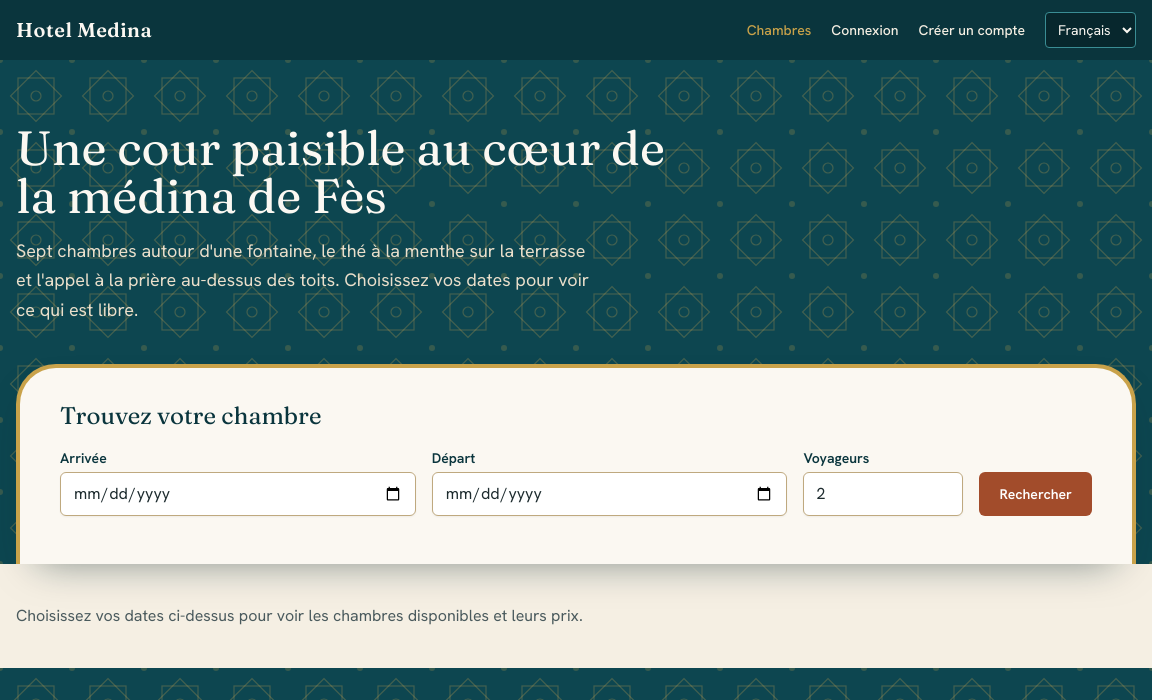
Scenario: language switching › switches between French and English and persists the choice
expect the heading "Trouvez votre chambre" is shown: met, box 60,401 -> 321,430
Select "English" in the dropdown named "Langue" at (1090, 30), box 1045,12 -> 1136,48
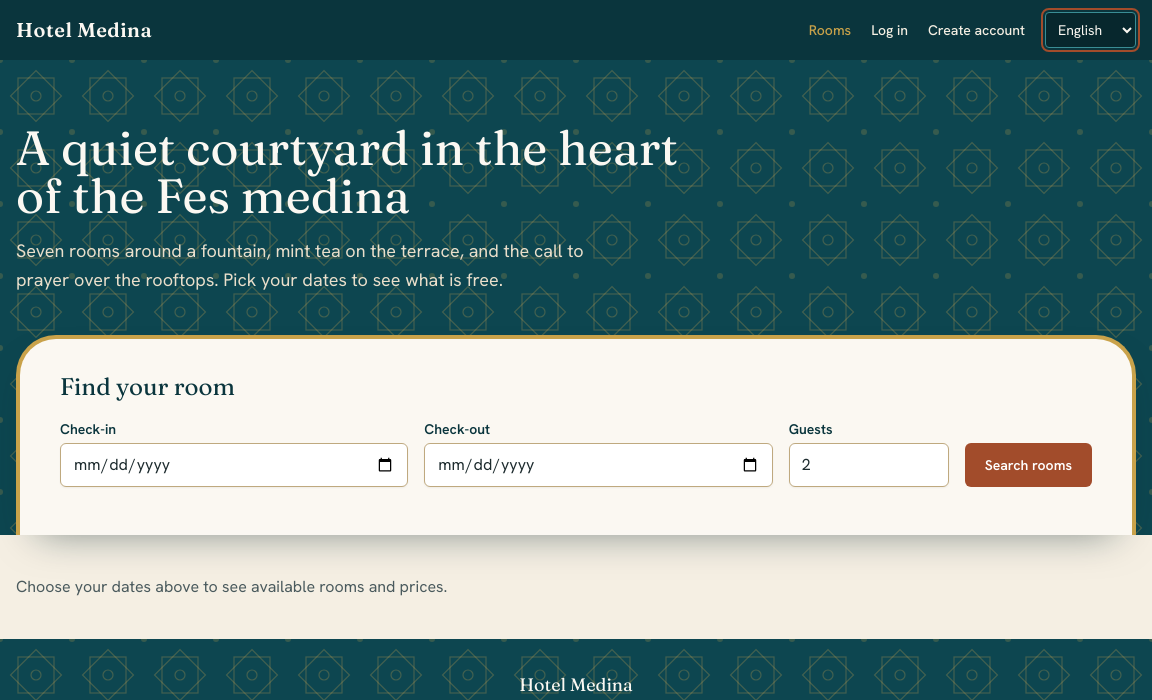
expect the heading "Find your room" is shown: met, box 60,372 -> 235,400
